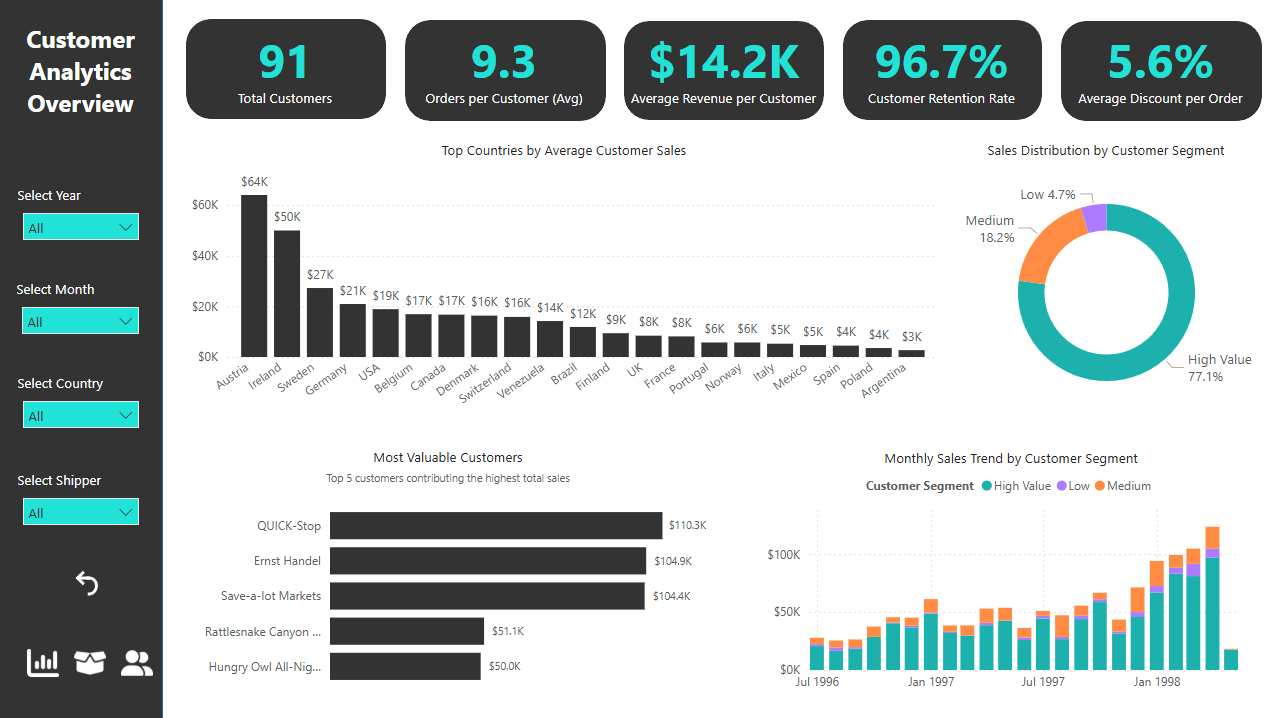

Layout of this report page (visuals, bound fields, positions):
{"tool":"powerbi","page":{"name":"Customers","canvas":[1280,720],"ordinal":2},"visuals":[{"type":"shape","title":"navigation","box":[0,0,164.5,720],"z":0},{"type":"card","fields":{"Values":["Measure Table.Returning Customers %"]},"box":[815.8,17.7,256.3,100.2],"z":0,"group":"g3"},{"type":"shape","box":[1063.2,22.2,200.4,100.2],"z":0,"group":"g2"},{"type":"actionButton","box":[25.2,644,42.3,40.3],"z":0,"group":"g1"},{"type":"card","fields":{"Values":["Measure Table.Avg Orders per Customer"]},"box":[378.6,17.7,256.3,100.2],"z":1000,"group":"g3"},{"type":"shape","box":[188,20.4,200.4,100.2],"z":1000,"group":"g2"},{"type":"slicer","title":"Select Month","fields":{"Values":["Orders.Month Name"]},"box":[14.2,280.9,136.6,73.6],"z":1000},{"type":"actionButton","box":[72.1,644,42.3,40.3],"z":1000,"group":"g1"},{"type":"card","fields":{"Values":["Measure Table.Avg Discount per Order"]},"box":[1054.3,17.7,217.2,100.2],"z":2000,"group":"g3"},{"type":"shape","box":[626.5,22.4,199.5,99.3],"z":2000,"group":"g2"},{"type":"clusteredBarChart","title":"Most Valuable Customers","fields":{"Category":["Customers.CompanyName"],"Y":["Measure Table.Total Sales"]},"box":[188.2,449.1,524.5,251.8],"z":2000},{"type":"actionButton","box":[118.9,644,42.3,40.3],"z":2000,"group":"g1"},{"type":"card","fields":{"Values":["Measure Table.Total Customers (Active in Selected Period)"]},"box":[160.5,17.7,254.5,100.2],"z":3000,"group":"g3"},{"type":"shape","box":[407.2,21.7,200.4,100.2],"z":3000,"group":"g2"},{"type":"slicer","title":"Select Year","fields":{"Values":["Orders.Year"]},"box":[14.9,187.3,136.4,73.6],"z":3000},{"type":"card","fields":{"Values":["Measure Table.Avg Sales per Customer"]},"box":[598.5,17.7,255.4,100.2],"z":4000,"group":"g3"},{"type":"shape","box":[844.8,21.1,199.5,100.2],"z":4000,"group":"g2"},{"type":"columnChart","title":"Top Countries by Average Customer Sales ","fields":{"Category":["Customers.Country"],"Y":["Measure Table.Avg Sales per Customer"]},"box":[188.2,141.8,756.4,286.4],"z":4000},{"type":"slicer","title":"Select Country","fields":{"Values":["Orders.ShipCountry"]},"box":[15.2,374.6,135.7,77.1],"z":5000},{"type":"donutChart","title":"Sales Distribution by Customer Segment","fields":{"Category":["Customers.Customer Segment"],"Y":["Measure Table.Total Sales by Segment"]},"box":[954.5,142.1,308.4,286.2],"z":6000},{"type":"slicer","title":"Select Shipper","fields":{"Values":["Shippers.CompanyName"]},"box":[15.4,471.7,135.7,77.1],"z":7000},{"type":"columnChart","title":"Monthly Sales Trend by Customer Segment","fields":{"Category":["Orders.Start of Month"],"Y":["Measure Table.Total Sales"],"Series":["Customers.Customer Segment"]},"box":[764,449.5,498.9,252],"z":8000},{"type":"group","id":"g1","title":"Group 1","box":[25.2,644,136.1,40.3],"z":9000},{"type":"actionButton","box":[71.8,567.5,36.4,33.7],"z":10000},{"type":"textbox","box":[15.1,17.7,135.7,113.5],"z":11000},{"type":"group","id":"g2","title":"KPIs Backgrounds","box":[188,20.4,1075.6,102],"z":12000},{"type":"group","id":"g3","title":"KPIs","box":[160.5,17.7,1111,100.2],"z":13000}]}

Visuals, with their boxes in screenshot pixels (x1, y1, x2, y2), scaled from the page's 1280x720 canvas onto the 1276x718 screenshot:
"navigation" shape: 0:0:164:717
card - Measure Table.Returning Customers %: 813:18:1069:118
shape: 1060:22:1260:122
actionButton: 25:642:67:682
card - Measure Table.Avg Orders per Customer: 377:18:633:118
shape: 187:20:387:120
"Select Month" slicer: 14:280:150:354
actionButton: 72:642:114:682
card - Measure Table.Avg Discount per Order: 1051:18:1268:118
shape: 625:22:823:121
"Most Valuable Customers" clusteredBarChart: 188:448:710:699
actionButton: 119:642:161:682
card - Measure Table.Total Customers (Active in Selected Period): 160:18:414:118
shape: 406:22:606:122
"Select Year" slicer: 15:187:151:260
card - Measure Table.Avg Sales per Customer: 597:18:851:118
shape: 842:21:1041:121
"Top Countries by Average Customer Sales " columnChart: 188:141:942:427
"Select Country" slicer: 15:374:150:450
"Sales Distribution by Customer Segment" donutChart: 952:142:1259:427
"Select Shipper" slicer: 15:470:151:547
"Monthly Sales Trend by Customer Segment" columnChart: 762:448:1259:700
"Group 1" group: 25:642:161:682
actionButton: 72:566:108:600
textbox: 15:18:150:131
"KPIs Backgrounds" group: 187:20:1260:122
"KPIs" group: 160:18:1268:118
